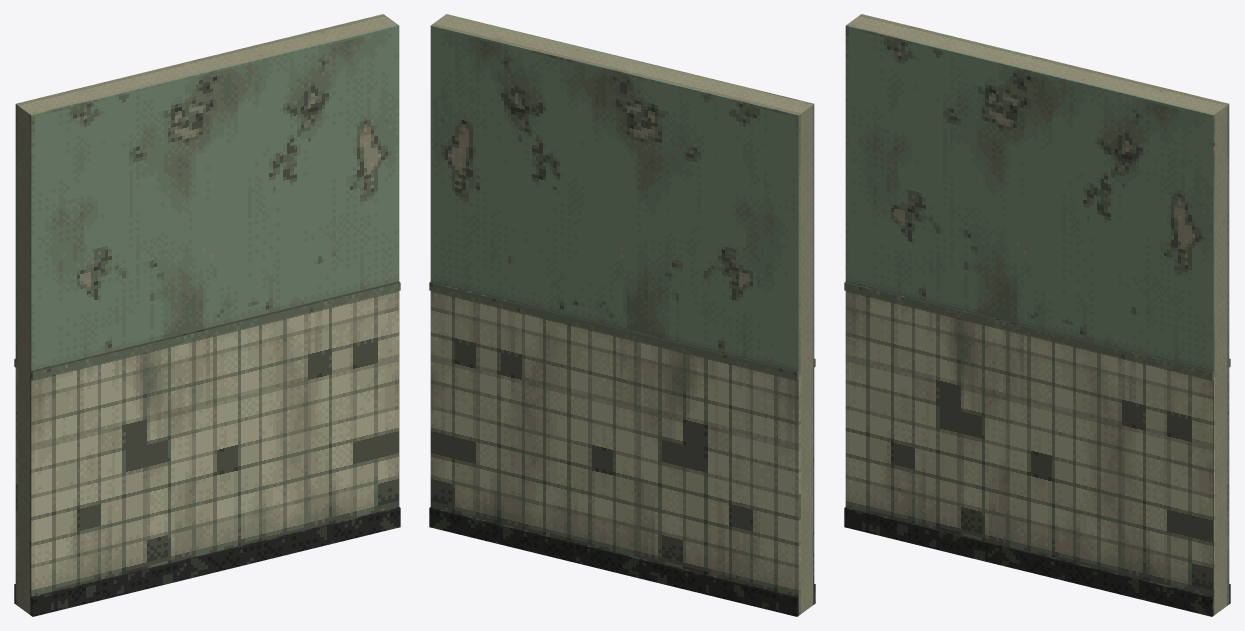
Rendered from Wall_2m_01.glb.
3 renders of one model, left to right at view 1: azimuth 30°, elevation 25°; view 2: azimuth 150°, elevation 25°; view 3: azimuth 330°, elevation 25°, orthographic.
Visible parts, largest first — view 1: Wall_2m_01; view 2: Wall_2m_01; view 3: Wall_2m_01.
Part boxes in pixels (left/top/right/bottom): Wall_2m_01: left=14, top=14, right=400, bottom=616; Wall_2m_01: left=429, top=14, right=815, bottom=616; Wall_2m_01: left=844, top=14, right=1230, bottom=616.
Size of the model in its own units: 2 by 2.6 by 0.174.
1 material, 1 textured.
